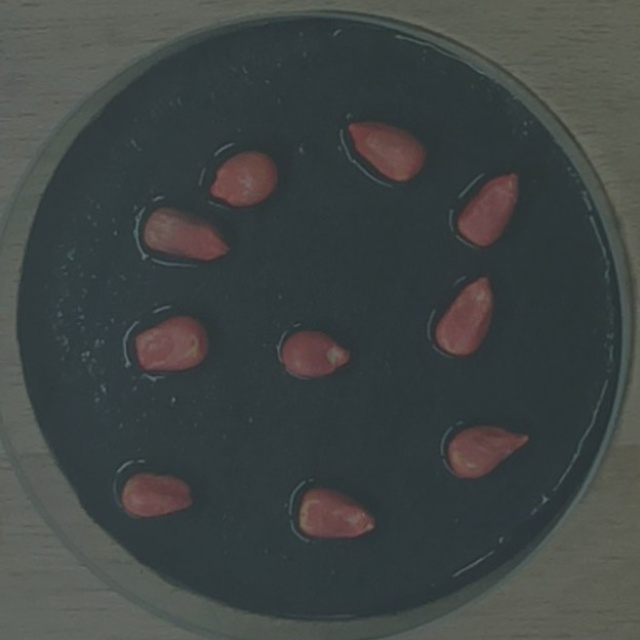Zea mays: (339, 112, 433, 189), (450, 161, 526, 252), (428, 267, 500, 362), (437, 414, 536, 483), (139, 200, 236, 269), (128, 304, 215, 378), (291, 480, 384, 544), (203, 142, 284, 211), (114, 463, 200, 524), (275, 324, 357, 385)
